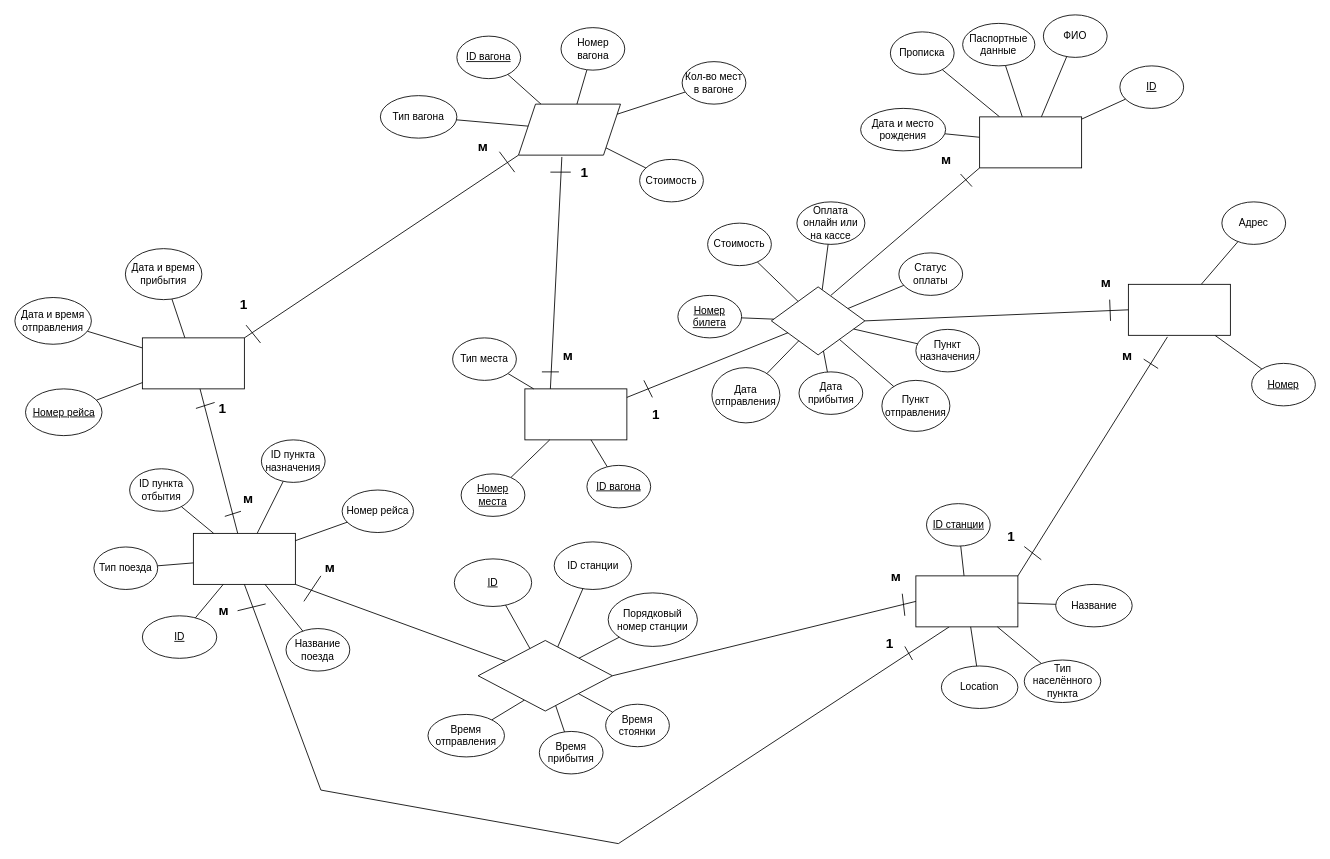
This 1330x859 diagram has some shape labels left out. Each missing label, with the centre of its shape:
"Вагон" belongs at [569,129].
"Касса" belongs at [1179,309].
"Место в вагоне" belongs at [575,414].
"Определение промежуточных пунктов маршрута" belongs at [544,675].
"Пассажир" belongs at [1030,142].
"Покупка билета" belongs at [818,320].
"Расписание" belongs at [244,558].
"Рейс" belongs at [193,363].
"Станция" belongs at [966,601].
